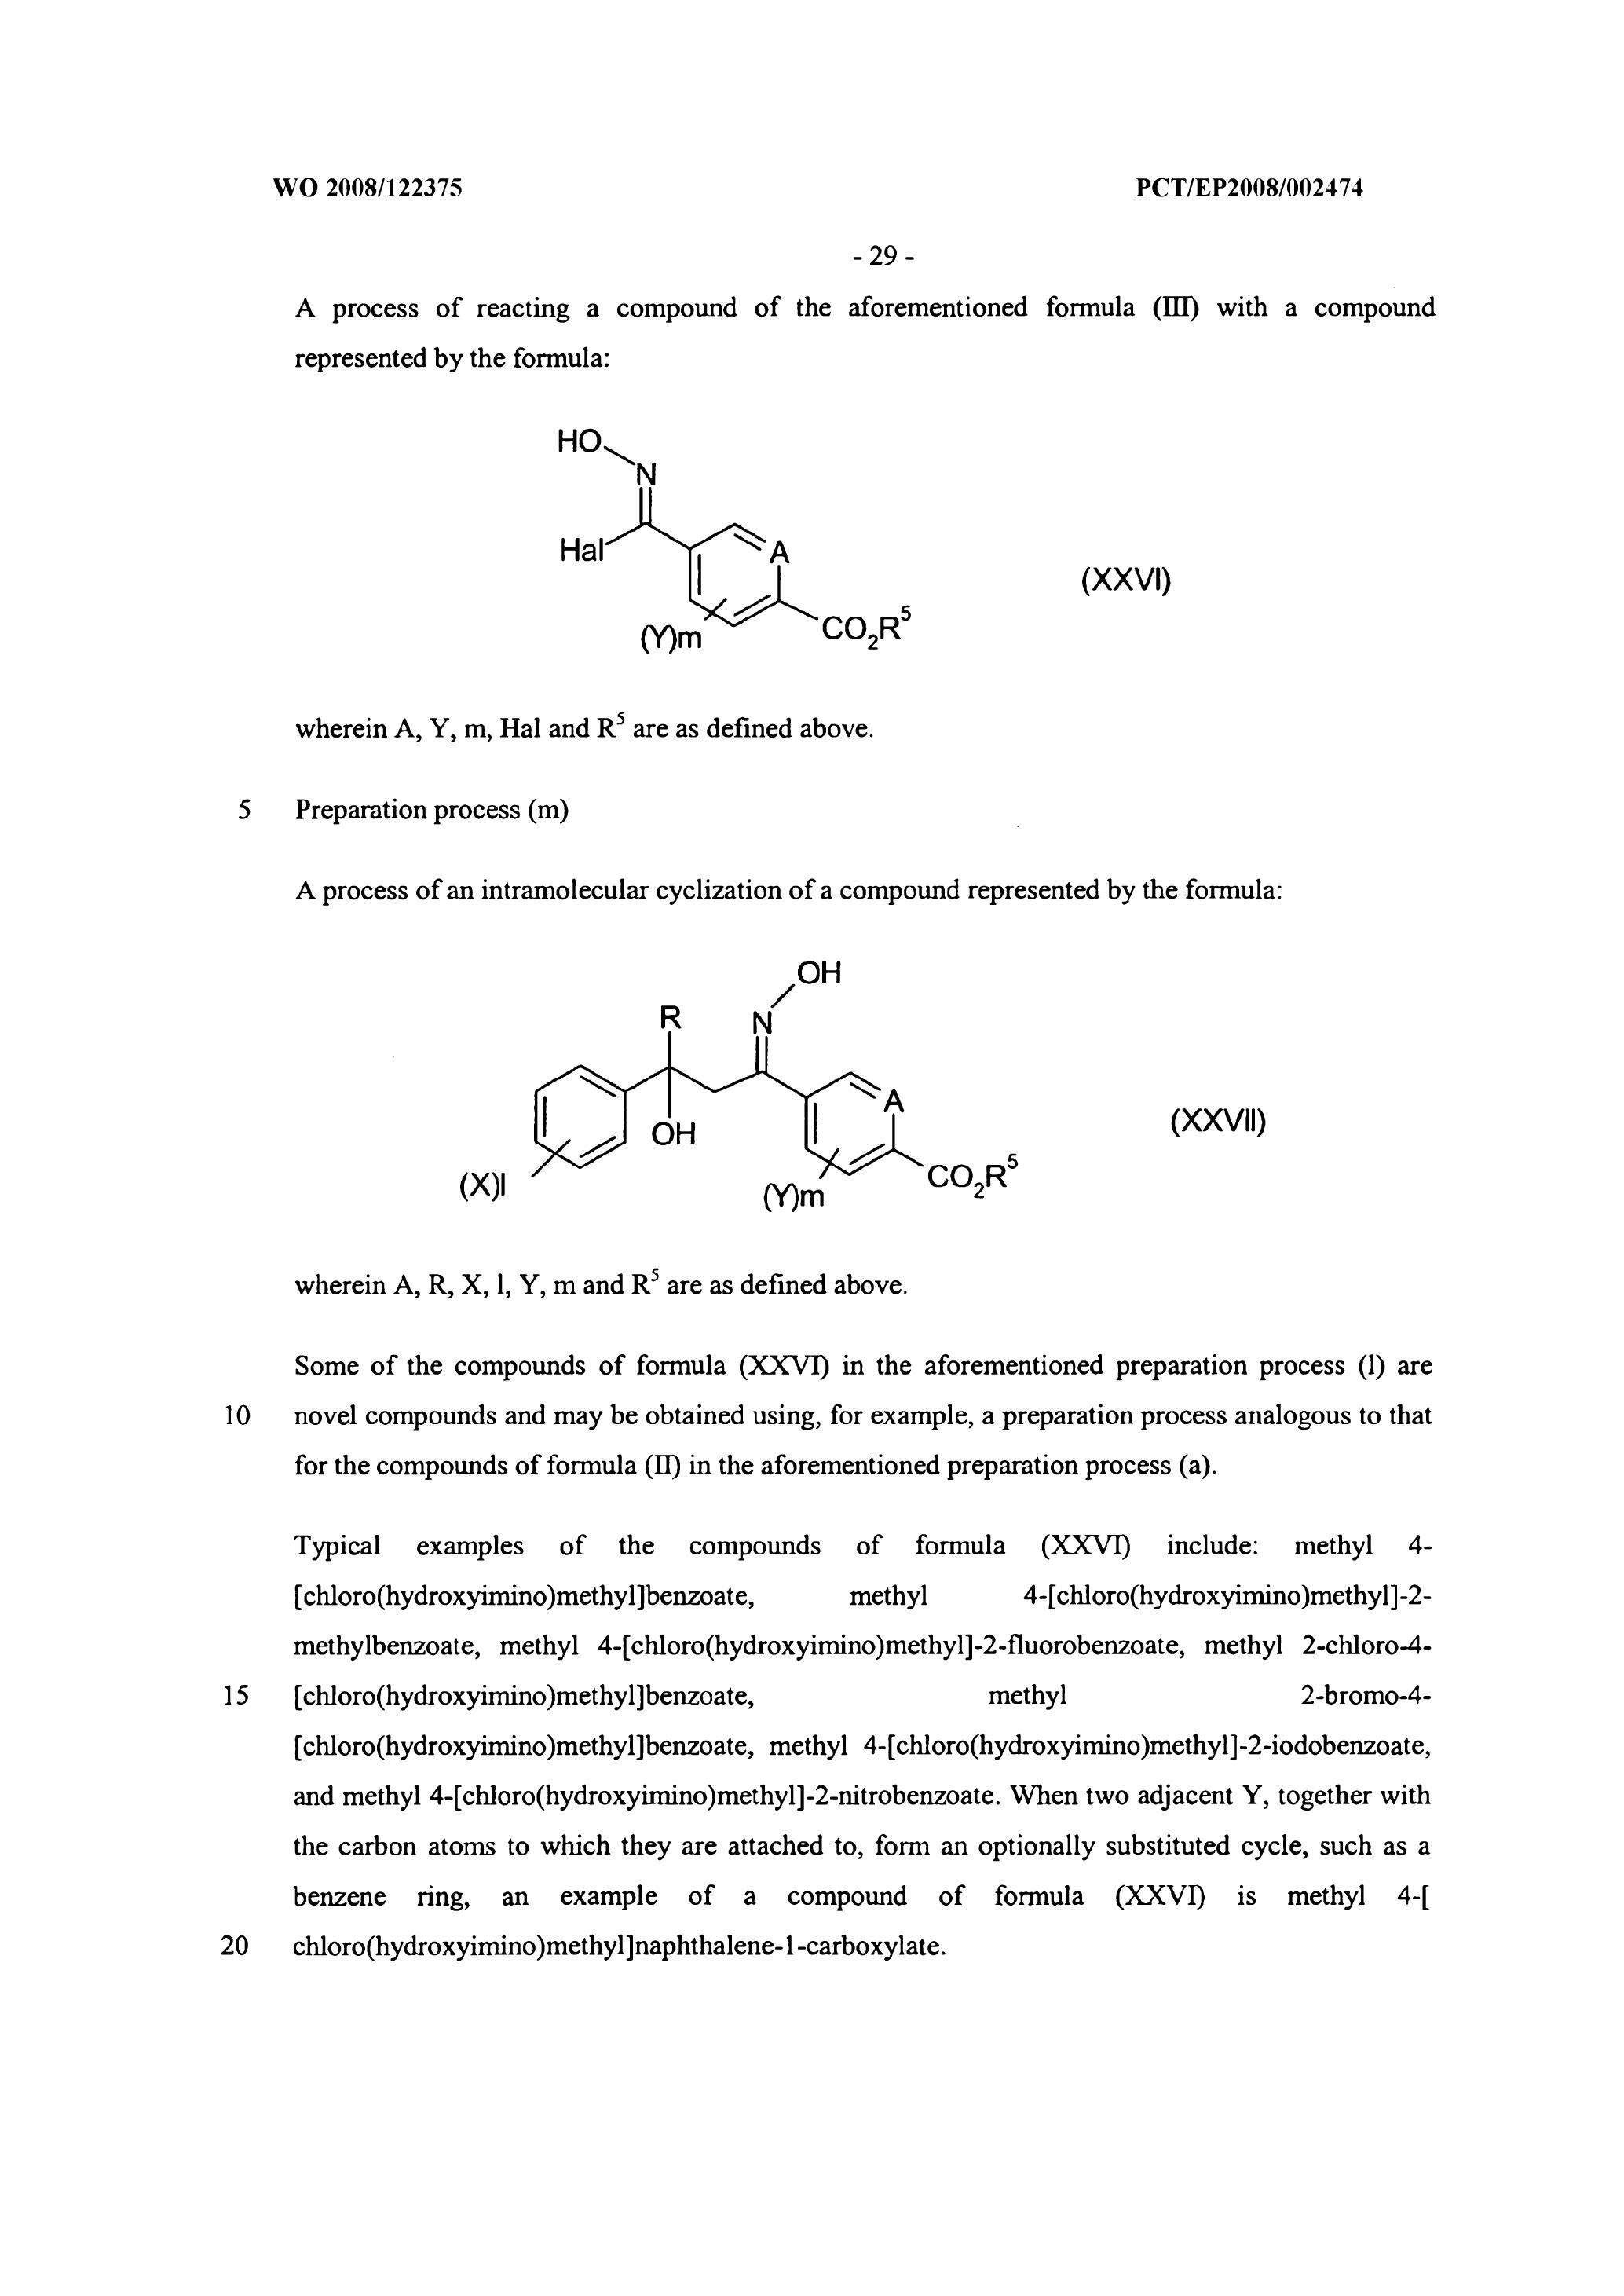reactions: (264, 863, 1455, 1317)
